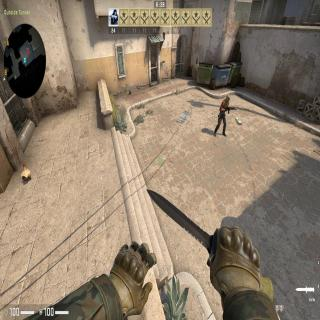T-Body: (214, 95, 230, 137)
T-Head: (226, 95, 230, 102)
